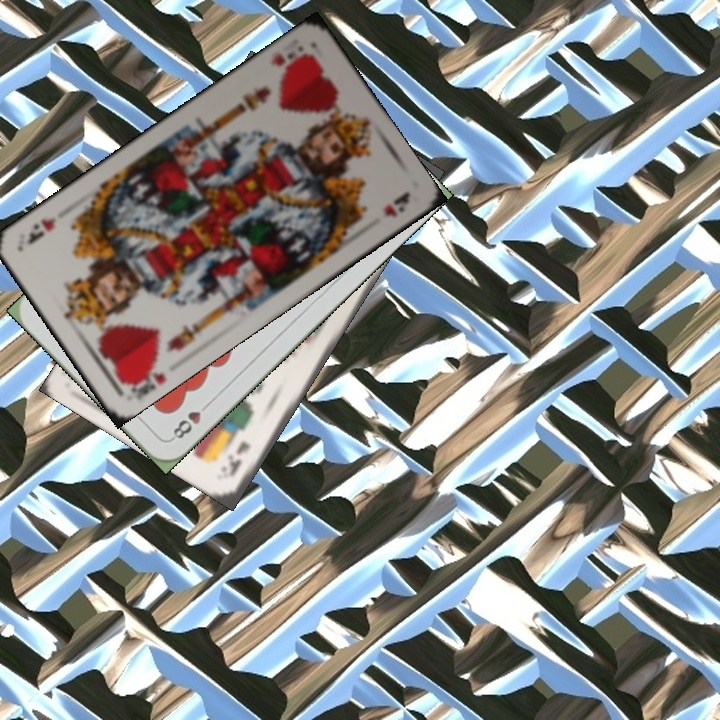EK: (224, 437, 253, 480)
H8: (167, 397, 213, 443)
HK: (119, 356, 169, 403), (265, 41, 313, 79)
